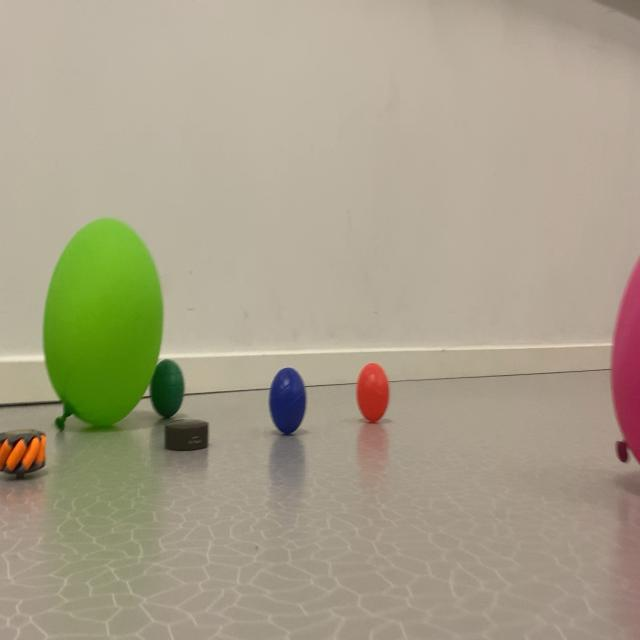7: (342, 341, 408, 454)
green ball: (265, 338, 325, 468)
red ball: (150, 335, 198, 463)
